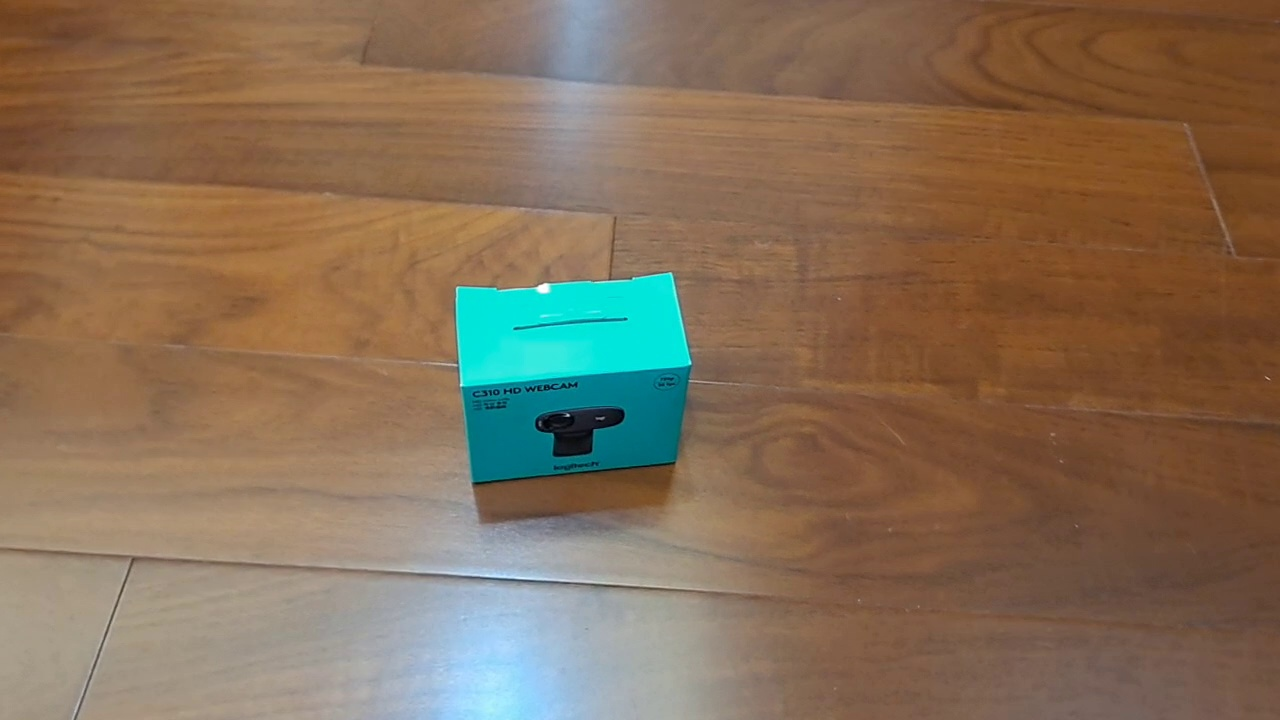webcam: (453, 271, 693, 485)
